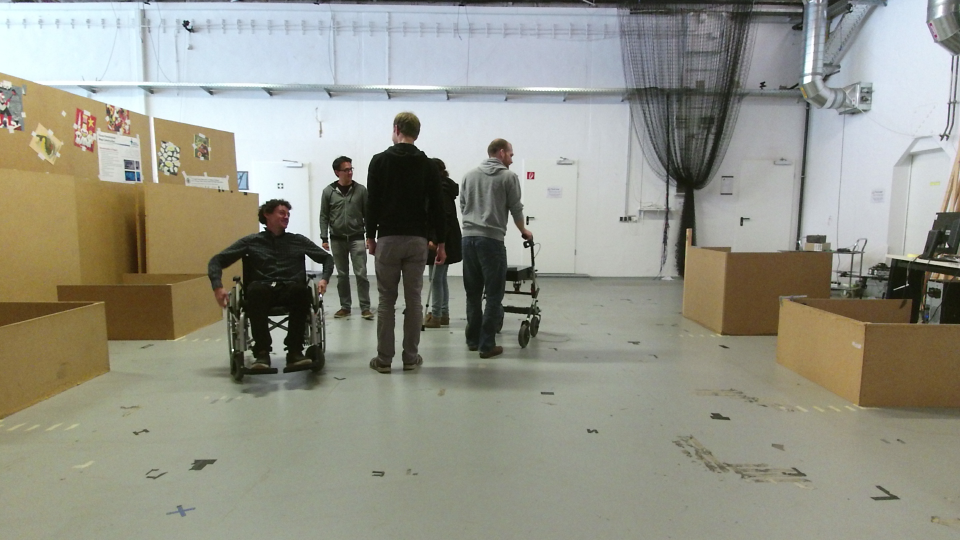wheelchair: (207, 193, 341, 384)
